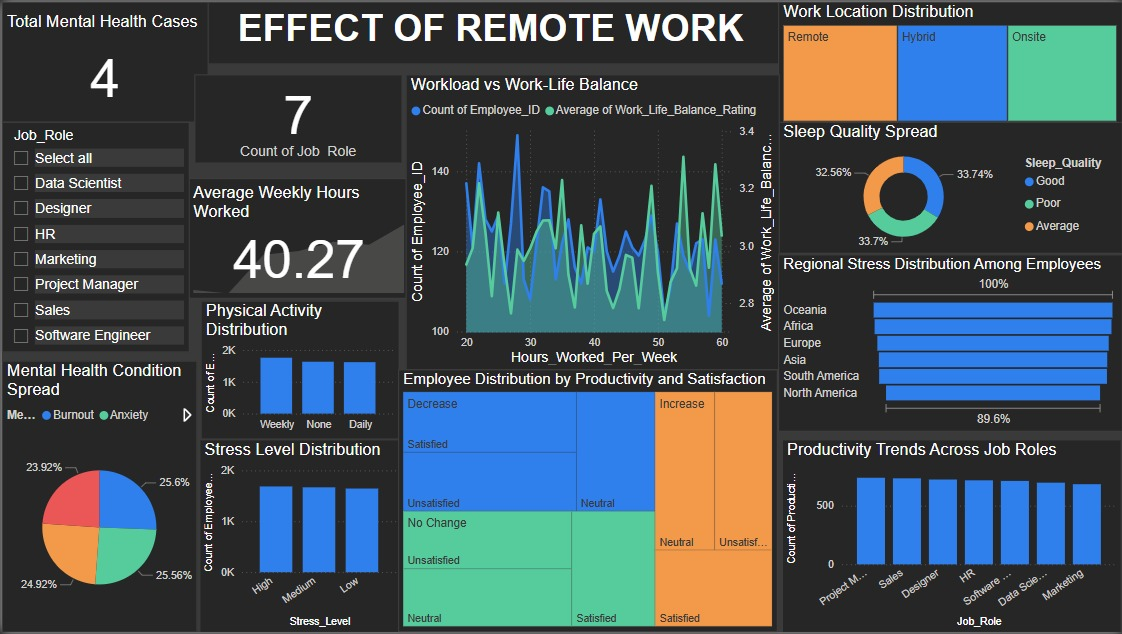

The page's visual inventory and layout, read from the dashboard file:
{"tool":"powerbi","page":{"name":"Page 1","canvas":[1280,720],"ordinal":0},"visuals":[{"type":"textbox","box":[227.2,0,663.4,71.4],"z":0},{"type":"clusteredColumnChart","title":"Physical Activity Distribution","fields":{"Category":["Impact_of_Remote_Work_on_Mental_Health.Physical_Activity"],"Y":["CountNonNull(Impact_of_Remote_Work_on_Mental_Health.Employee_ID)"]},"box":[227.2,341.4,227.2,158.4],"z":1000},{"type":"clusteredColumnChart","title":"\tStress Level Distribution","fields":{"Category":["Impact_of_Remote_Work_on_Mental_Health.Stress_Level"],"Y":["CountNonNull(Impact_of_Remote_Work_on_Mental_Health.Employee_ID)"]},"box":[225.9,499.8,232.4,220.7],"z":2000},{"type":"pieChart","title":"Mental Health Condition Spread","fields":{"Y":["CountNonNull(Impact_of_Remote_Work_on_Mental_Health.Employee_ID)"],"Category":["Impact_of_Remote_Work_on_Mental_Health.Mental_Health_Condition"]},"box":[0,410.2,223.3,310.3],"z":3000},{"type":"card","title":"Total Mental Health Cases","fields":{"Values":["Count(Impact_of_Remote_Work_on_Mental_Health.Mental_Health_Condition)"]},"box":[0,0,236.3,137.6],"z":5000},{"type":"kpi","title":"Average Weekly Hours Worked","fields":{"Indicator":["Avg(Impact_of_Remote_Work_on_Mental_Health.Hours_Worked_Per_Week)"],"TrendLine":["Impact_of_Remote_Work_on_Mental_Health.Job_Role"]},"box":[212.9,201.2,253.1,137.6],"z":6000},{"type":"actionButton","box":[0,0,100,40],"z":7000},{"type":"treemap","title":"Work Location Distribution","fields":{"Values":["CountNonNull(Impact_of_Remote_Work_on_Mental_Health.Employee_ID)"],"Details":["Impact_of_Remote_Work_on_Mental_Health.Work_Location"]},"box":[886.7,0,393.3,142.8],"z":8000},{"type":"slicer","fields":{"Values":["Impact_of_Remote_Work_on_Mental_Health.Job_Role"]},"box":[0,137.6,214.2,263.5],"z":9000},{"type":"donutChart","title":"Sleep Quality Spread","fields":{"Y":["CountNonNull(Impact_of_Remote_Work_on_Mental_Health.Employee_ID)"],"Category":["Impact_of_Remote_Work_on_Mental_Health.Sleep_Quality"]},"box":[886.7,137.6,393.3,150.6],"z":10000},{"type":"areaChart","title":"Workload vs Work-Life Balance","fields":{"Category":["Impact_of_Remote_Work_on_Mental_Health.Hours_Worked_Per_Week"],"Y":["CountNonNull(Impact_of_Remote_Work_on_Mental_Health.Employee_ID)"],"Y2":["Avg(Impact_of_Remote_Work_on_Mental_Health.Work_Life_Balance_Rating)"]},"box":[460.9,83.1,427.1,337.5],"z":10001},{"type":"funnel","title":"Regional Stress Distribution Among Employees","fields":{"Y":["CountNonNull(Impact_of_Remote_Work_on_Mental_Health.Stress_Level)"],"Category":["Impact_of_Remote_Work_on_Mental_Health.Region"]},"box":[886.7,288.2,393.3,202.5],"z":10002},{"type":"columnChart","title":"Productivity Trends Across Job Roles","fields":{"Category":["Impact_of_Remote_Work_on_Mental_Health.Job_Role"],"Y":["CountNonNull(Impact_of_Remote_Work_on_Mental_Health.Productivity_Change)"]},"box":[891.8,499.8,388.2,220.7],"z":10003},{"type":"treemap","title":"Employee Distribution by Productivity and Satisfaction","fields":{"Group":["Impact_of_Remote_Work_on_Mental_Health.Productivity_Change"],"Values":["CountNonNull(Impact_of_Remote_Work_on_Mental_Health.Employee_ID)"],"Details":["Impact_of_Remote_Work_on_Mental_Health.Satisfaction_with_Remote_Work"]},"box":[453.1,420.6,433.6,299.9],"z":10004},{"type":"card","fields":{"Values":["Count(Impact_of_Remote_Work_on_Mental_Health.Job_Role)"]},"box":[220.7,83.1,237.6,101.3],"z":10005}]}

Visuals, with their boxes in screenshot pixels (x1, y1, x2, y2), scaled from the page's 1280x720 canvas onto the 1122x634 screenshot:
textbox: 199:0:781:63
"Physical Activity Distribution" clusteredColumnChart: 199:301:398:440
"	Stress Level Distribution" clusteredColumnChart: 198:440:402:633
"Mental Health Condition Spread" pieChart: 0:361:196:633
"Total Mental Health Cases" card: 0:0:207:121
"Average Weekly Hours Worked" kpi: 187:177:408:298
actionButton: 0:0:88:35
"Work Location Distribution" treemap: 777:0:1121:126
slicer - Impact_of_Remote_Work_on_Mental_Health.Job_Role: 0:121:188:353
"Sleep Quality Spread" donutChart: 777:121:1121:254
"Workload vs Work-Life Balance" areaChart: 404:73:778:370
"Regional Stress Distribution Among Employees" funnel: 777:254:1121:432
"Productivity Trends Across Job Roles" columnChart: 782:440:1121:633
"Employee Distribution by Productivity and Satisfaction" treemap: 397:370:777:633
card - Count(Impact_of_Remote_Work_on_Mental_Health.Job_Role): 193:73:402:162
